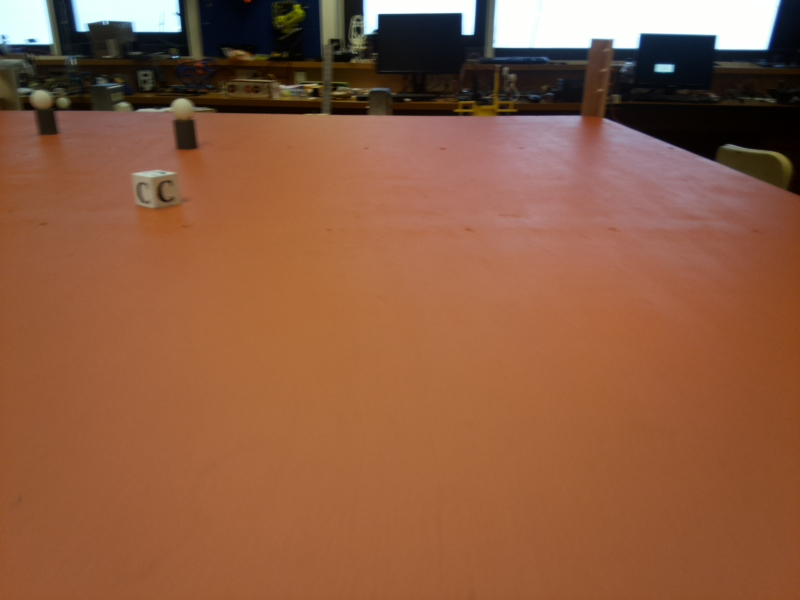blockC: (130, 166, 180, 213)
corner: (580, 36, 618, 115)
obstacle: (32, 83, 66, 136), (171, 97, 200, 153)
